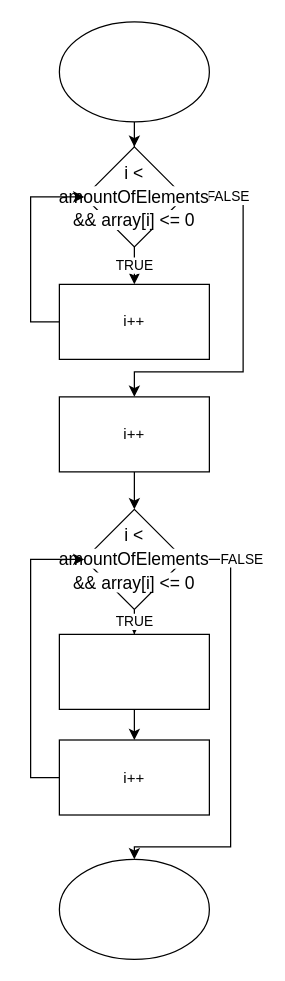
Some shapes in this 285 by 981 pixel diagram are drawn without their labels. The shapes that lost their labels are listed below. From the top down, each one's centre as x and y in pixels, then its label:
the point at 133,71: Начало sumBetweenPositive
the point at 133,671: sum += array[i]
the point at 133,908: Конец
